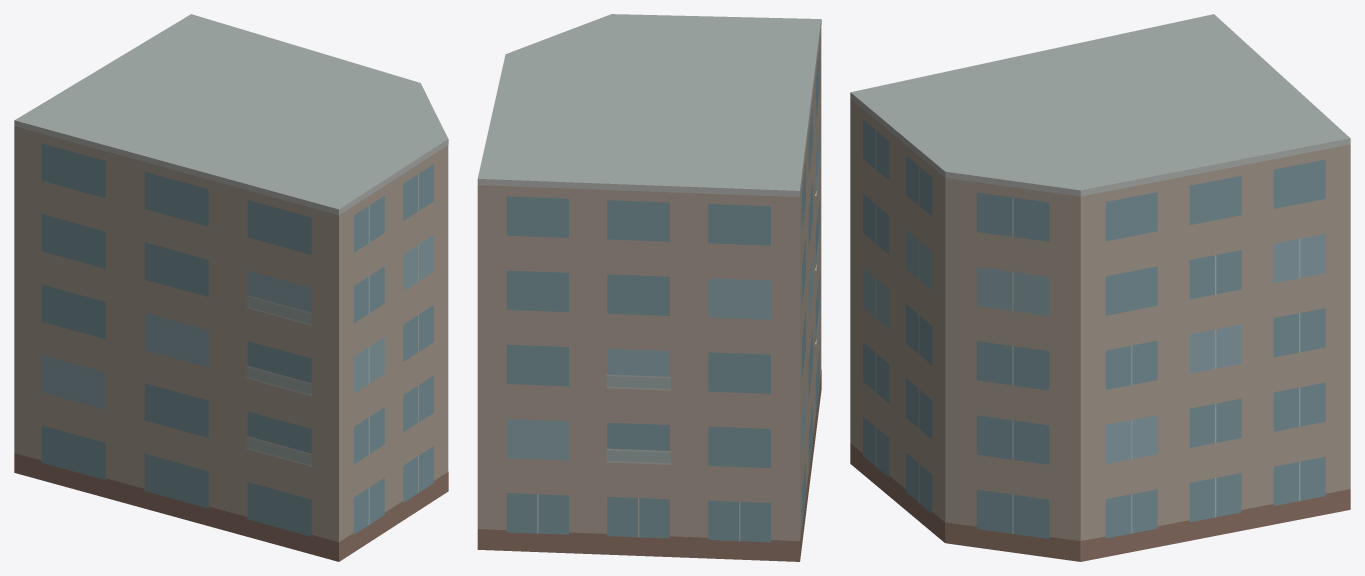
The model's file is survey-upis-32758407.glb.
3 renders of one model, left to right at view 1: azimuth 30°, elevation 25°; view 2: azimuth 150°, elevation 25°; view 3: azimuth 270°, elevation 25°, orthographic. The views are drawn at different scales.
Visible parts, largest first — view 1: survey-upis-32758407.tmp; view 2: survey-upis-32758407.tmp; view 3: survey-upis-32758407.tmp.
Part boxes in pixels (x1,y1,x2,y2): survey-upis-32758407.tmp: [14, 14, 448, 561]; survey-upis-32758407.tmp: [477, 14, 821, 561]; survey-upis-32758407.tmp: [850, 14, 1350, 561].
Size of the model in its own units: 14.93 by 14.65 by 17.88.
